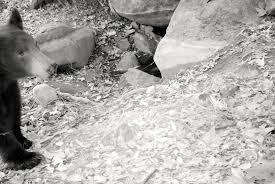bear: (5, 12, 59, 177)
